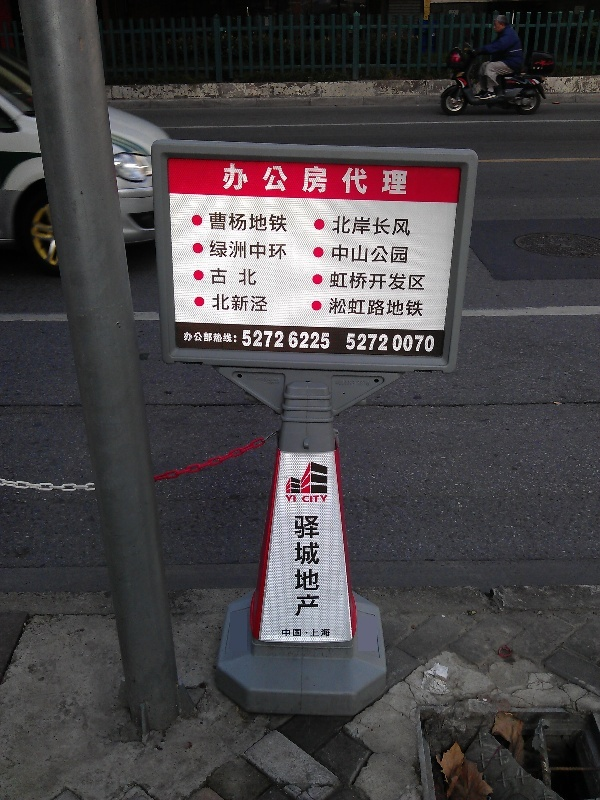text: (305, 516, 320, 616), (295, 516, 304, 616), (225, 163, 240, 197), (241, 163, 256, 197), (257, 163, 272, 197), (273, 163, 288, 197), (289, 163, 304, 197), (305, 163, 320, 197), (321, 163, 336, 197), (337, 163, 352, 197), (353, 163, 368, 197), (369, 163, 384, 197), (385, 163, 400, 197), (273, 212, 289, 233), (337, 243, 352, 265), (353, 243, 368, 265), (369, 243, 384, 265), (385, 243, 400, 265), (225, 212, 240, 233), (241, 212, 256, 233), (257, 212, 272, 233), (337, 217, 352, 238), (353, 217, 368, 238), (369, 217, 384, 238), (385, 217, 400, 238), (209, 240, 224, 261), (225, 240, 240, 261), (241, 240, 256, 261), (257, 240, 272, 261), (273, 240, 288, 261), (337, 297, 352, 318), (353, 297, 368, 318), (369, 297, 384, 318), (385, 297, 400, 318), (401, 297, 416, 318), (257, 330, 272, 350), (273, 330, 288, 350), (289, 330, 304, 350), (305, 330, 320, 350), (225, 267, 240, 287), (241, 267, 256, 287), (353, 333, 368, 353), (369, 333, 384, 353), (385, 333, 400, 353), (401, 333, 416, 353), (417, 333, 432, 353), (210, 212, 224, 233), (337, 272, 352, 291), (353, 272, 368, 291), (369, 272, 384, 291), (385, 272, 400, 291), (401, 272, 416, 291), (225, 294, 240, 313), (241, 294, 256, 313), (242, 330, 256, 350), (210, 267, 224, 287), (401, 163, 408, 197), (212, 294, 224, 313), (257, 294, 269, 313), (401, 217, 411, 238), (321, 330, 331, 350), (193, 331, 208, 344), (209, 331, 224, 344), (401, 243, 409, 265), (225, 331, 238, 344), (417, 272, 425, 291), (329, 297, 336, 318), (417, 297, 424, 318), (329, 272, 336, 291), (305, 495, 320, 503), (289, 629, 304, 637), (305, 629, 320, 637), (346, 333, 352, 353), (337, 380, 352, 387), (353, 380, 368, 387), (184, 331, 192, 344), (332, 243, 336, 265), (321, 629, 331, 637), (289, 495, 297, 503), (433, 333, 436, 353), (321, 495, 328, 503), (282, 629, 288, 637), (334, 217, 336, 238), (257, 267, 259, 287), (302, 495, 304, 503), (286, 495, 288, 503), (369, 380, 370, 387)
